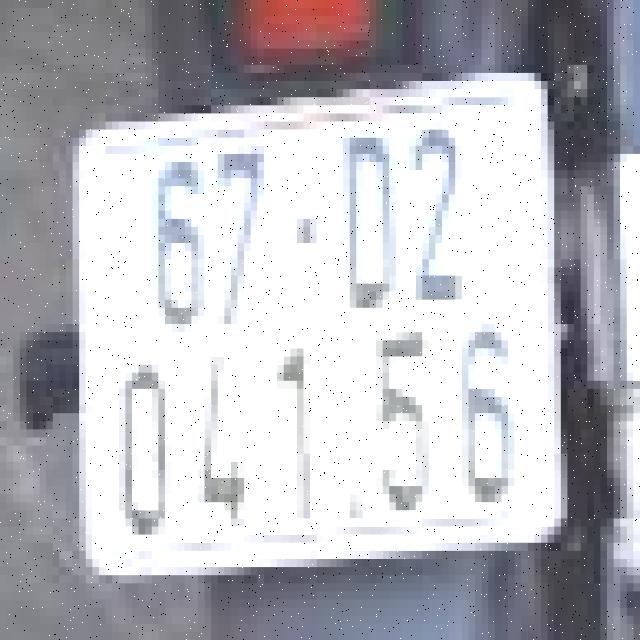0: (106, 361, 184, 563)
1: (270, 332, 330, 535)
2: (409, 126, 475, 320)
4: (185, 344, 264, 555)
5: (363, 320, 449, 514)
6: (446, 320, 524, 514), (152, 138, 211, 324)
7: (214, 138, 274, 324)
D: (337, 130, 402, 308)
